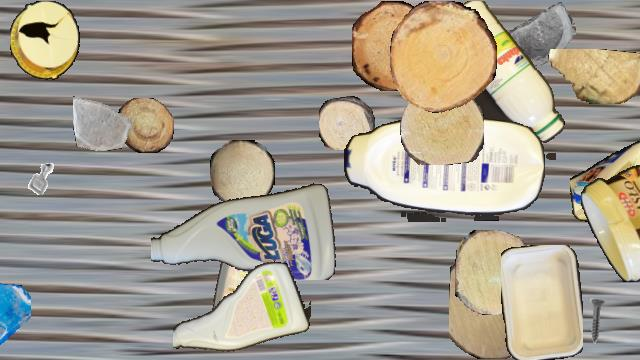glass: (504, 1, 576, 73), (73, 92, 131, 150), (0, 281, 30, 359)
metal: (514, 247, 574, 307), (572, 297, 620, 345), (20, 157, 64, 201)
plastic: (344, 118, 544, 222), (436, 1, 566, 159), (151, 176, 339, 280), (173, 257, 311, 359), (501, 245, 583, 359), (207, 217, 273, 339), (580, 162, 640, 282), (570, 133, 640, 229), (10, 1, 80, 79)
wood: (390, 1, 496, 113), (449, 247, 537, 359), (352, 1, 434, 91), (455, 230, 535, 314), (400, 84, 484, 164), (547, 49, 640, 103), (210, 140, 274, 204), (117, 98, 173, 152), (319, 96, 375, 150)
